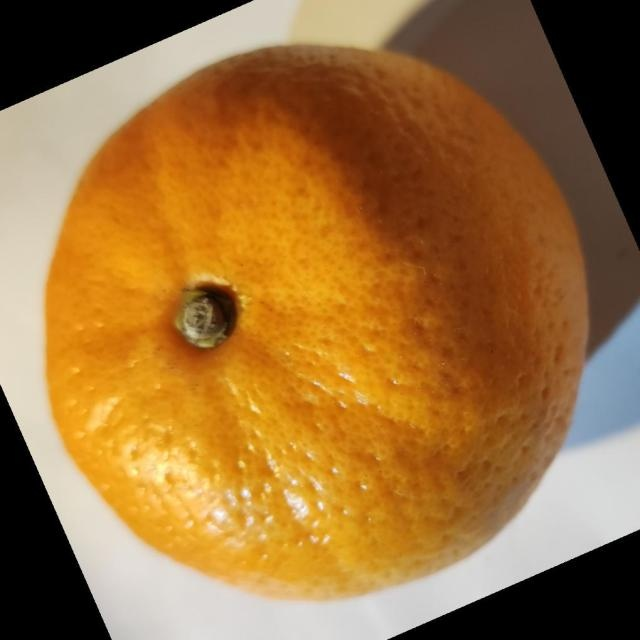agrume: (42, 42, 591, 601)
